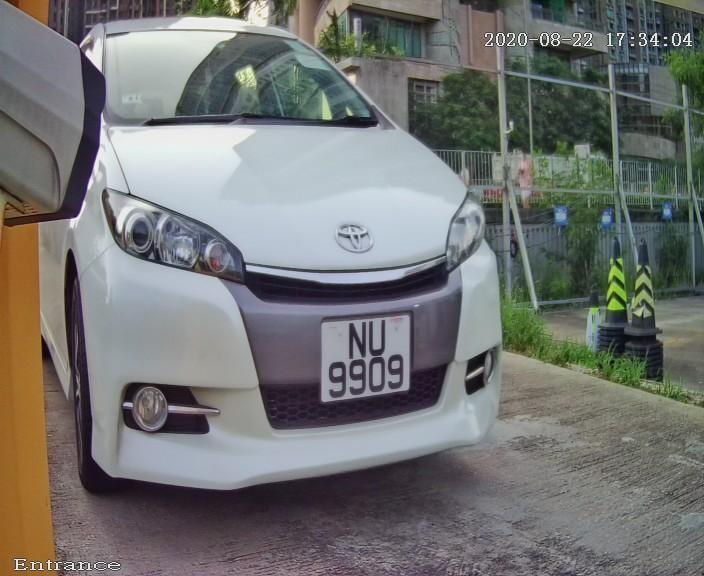License Plate: (312, 294, 419, 412)
